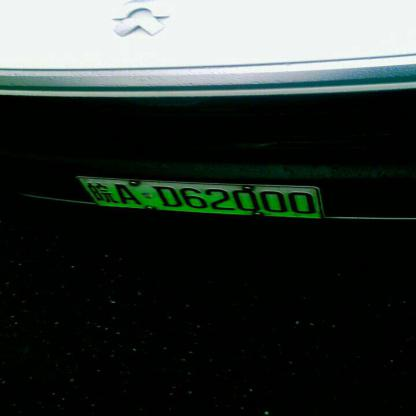lp: (78, 178, 320, 217)
